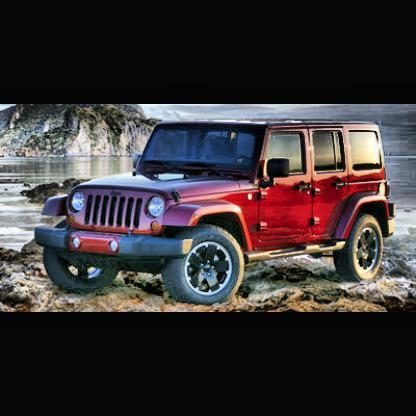Jeep Wrangler SUV 2012: (38, 121, 399, 305)
